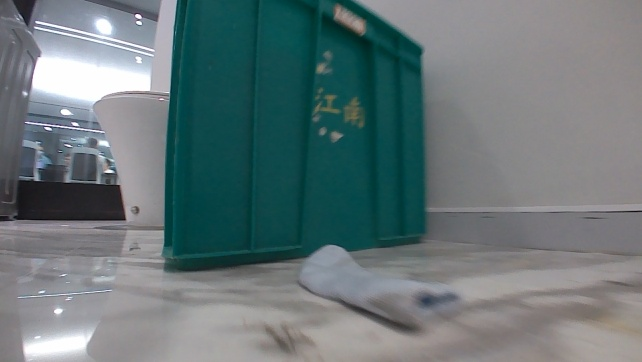socks: (295, 241, 466, 338)
toilet: (91, 89, 170, 226)
